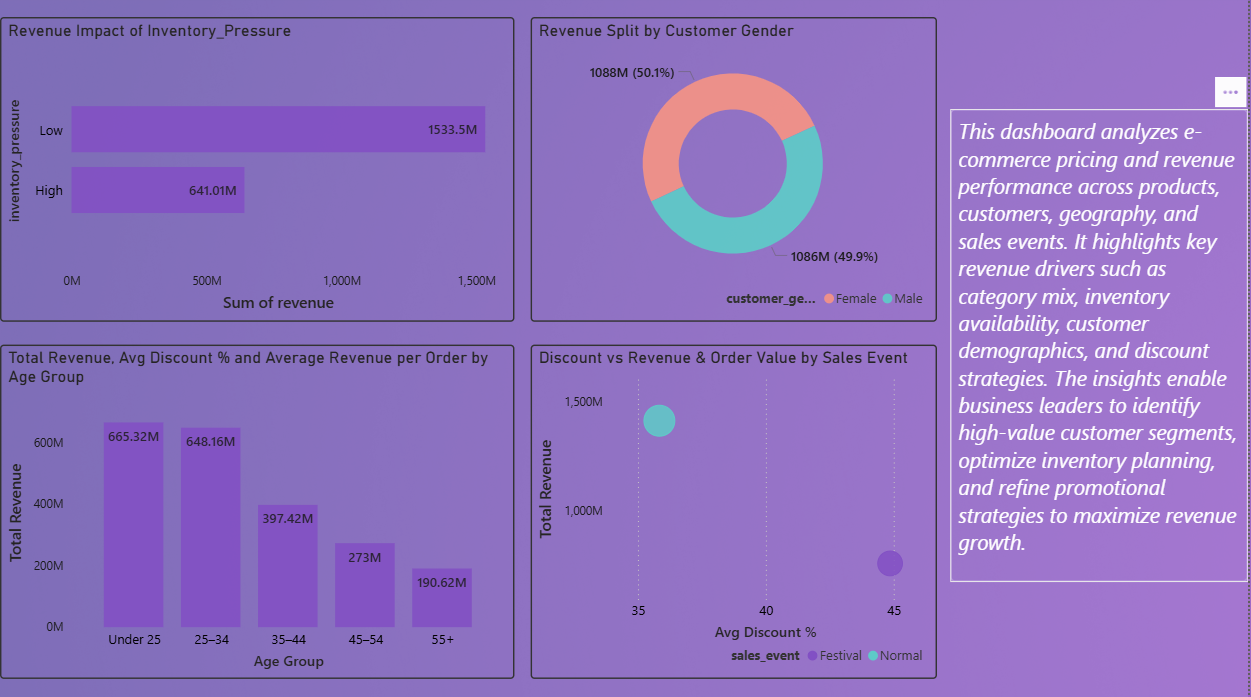

Layout of this report page (visuals, bound fields, positions):
{"tool":"powerbi","page":{"name":"Customer, Pricing & Demand Insights","canvas":[1280,720],"ordinal":2},"visuals":[{"type":"barChart","title":"Revenue Impact of  Inventory_Pressure","fields":{"Category":["ecommerce_analytics ecommerce_pricing_revenue.inventory_pressure"],"Y":["Sum(ecommerce_analytics ecommerce_pricing_revenue.revenue)"]},"box":[0,23.6,527.4,312.3],"z":0},{"type":"clusteredColumnChart","fields":{"Category":["ecommerce_analytics ecommerce_pricing_revenue.Age Group"],"Y":["ecommerce_analytics ecommerce_pricing_revenue.Total Revenue"]},"box":[0,359.5,527.4,342.8],"z":1000},{"type":"donutChart","title":" Revenue Split by Customer Gender","fields":{"Category":["ecommerce_analytics ecommerce_pricing_revenue.customer_gender"],"Y":["ecommerce_analytics ecommerce_pricing_revenue.Total Revenue"]},"box":[544.1,23.6,416.4,312.3],"z":2000},{"type":"scatterChart","title":"Discount vs Revenue & Order Value by Sales Event","fields":{"X":["ecommerce_analytics ecommerce_pricing_revenue.Avg Discount %"],"Y":["ecommerce_analytics ecommerce_pricing_revenue.Total Revenue"],"Series":["ecommerce_analytics ecommerce_pricing_revenue.sales_event"],"Size":["Sum(ecommerce_analytics ecommerce_pricing_revenue.units_sold)"]},"box":[544.1,359.5,416.4,342.8],"z":3000},{"type":"textbox","box":[974.3,118,305.3,484.4],"z":4000}]}

Visuals, with their boxes in screenshot pixels (x1, y1, x2, y2), scaled from the page's 1280x720 canvas onto the 1251x697 screenshot:
"Revenue Impact of  Inventory_Pressure" barChart: Rect(0, 23, 515, 325)
clusteredColumnChart - ecommerce_analytics ecommerce_pricing_revenue.Age Group x ecommerce_analytics ecommerce_pricing_revenue.Total Revenue: Rect(0, 348, 515, 680)
" Revenue Split by Customer Gender" donutChart: Rect(532, 23, 939, 325)
"Discount vs Revenue & Order Value by Sales Event" scatterChart: Rect(532, 348, 939, 680)
textbox: Rect(952, 114, 1250, 583)
